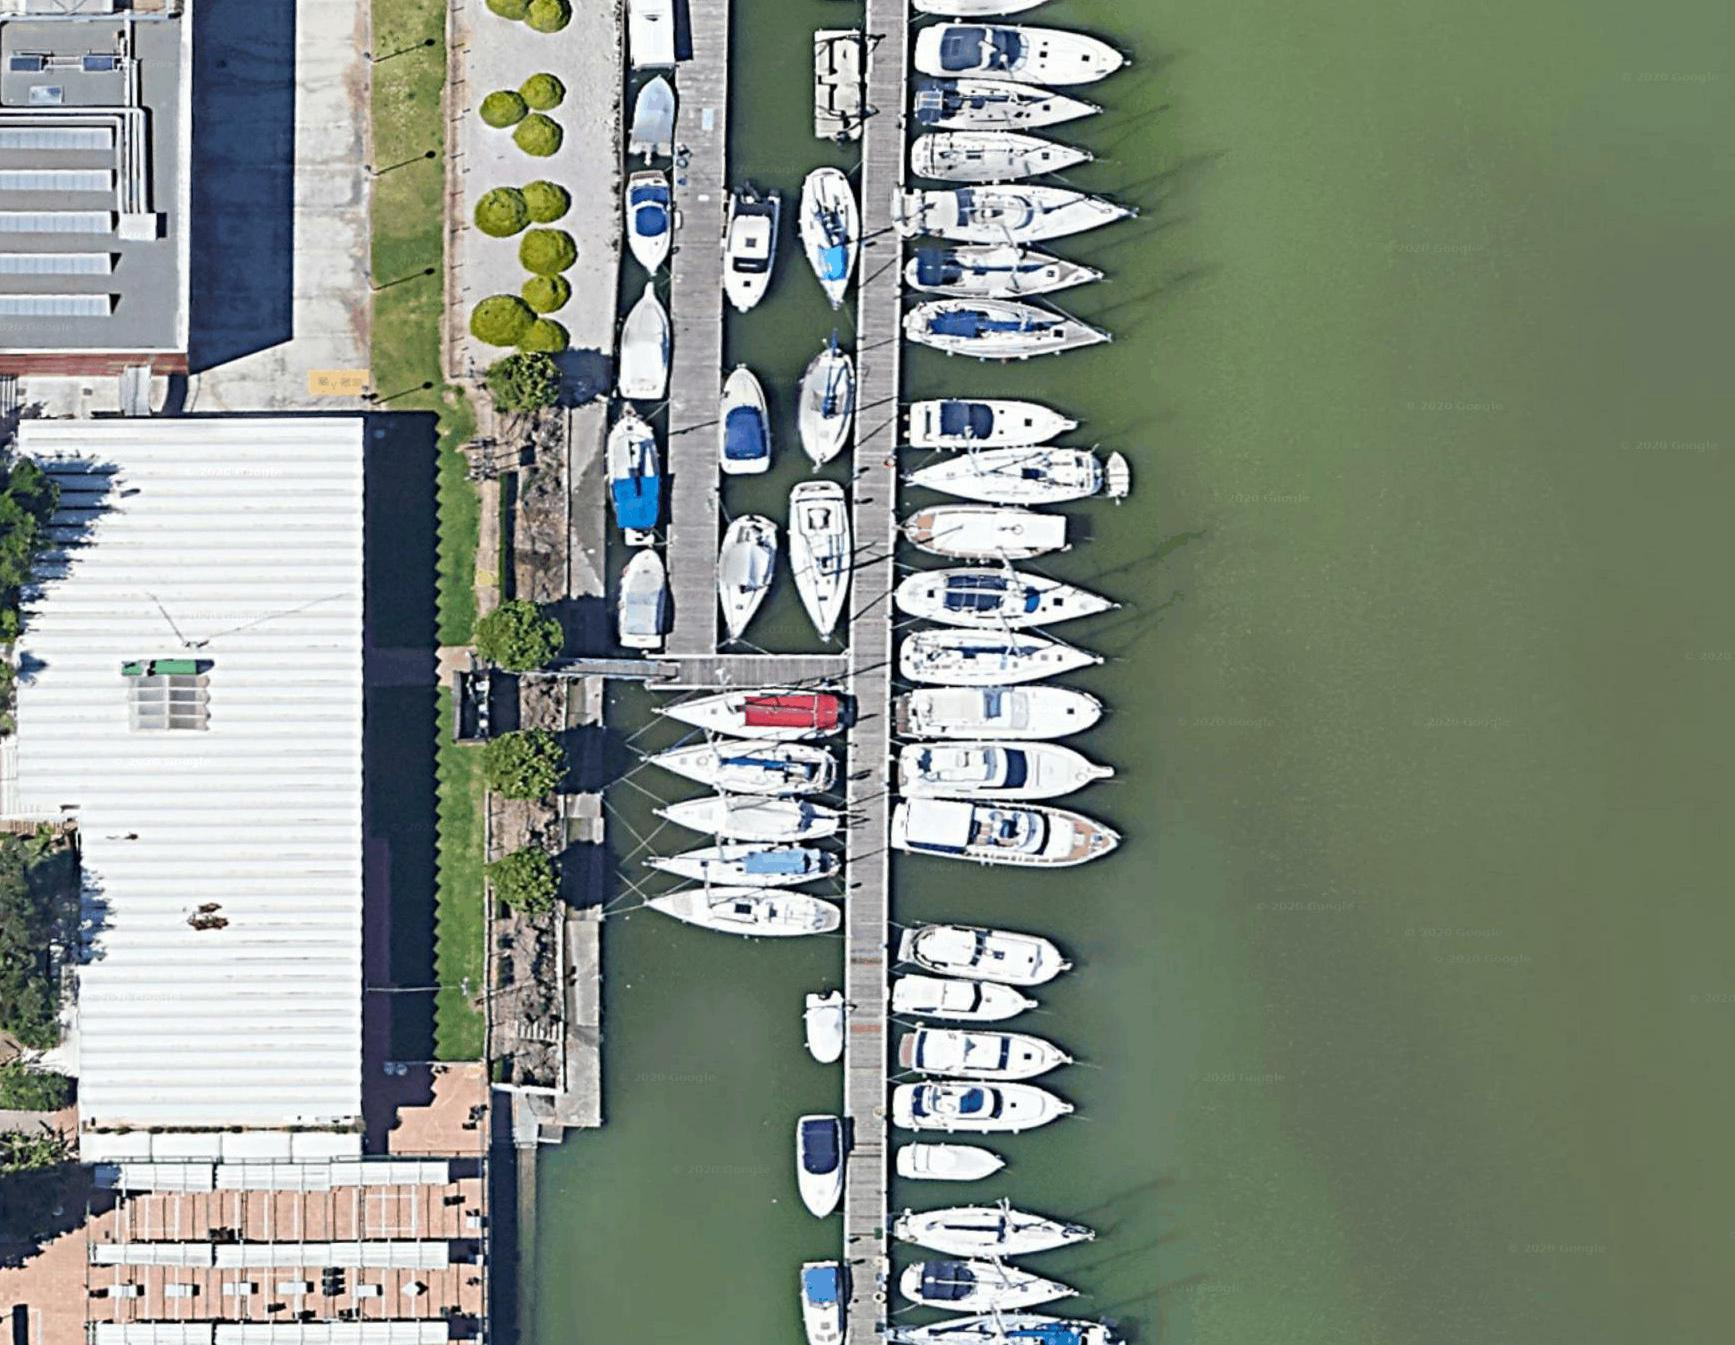harbor: (825, 6, 922, 1341)
ship: (897, 790, 1124, 876), (922, 13, 1134, 99), (908, 438, 1120, 510), (896, 917, 1075, 991), (889, 568, 1117, 625), (645, 884, 846, 946), (897, 1200, 1093, 1263), (789, 475, 858, 639), (900, 684, 1107, 739), (906, 301, 1103, 356), (897, 1077, 1072, 1139), (898, 630, 1098, 683), (901, 501, 1077, 562), (898, 1025, 1077, 1084), (914, 394, 1083, 456), (714, 506, 784, 646), (908, 130, 1097, 182), (639, 844, 837, 890), (798, 161, 863, 300), (797, 330, 858, 463), (880, 975, 1039, 1025), (607, 413, 666, 544), (722, 192, 777, 314), (797, 1108, 848, 1224), (621, 289, 672, 400), (721, 361, 772, 469), (896, 1142, 1006, 1184), (801, 1260, 844, 1344)
